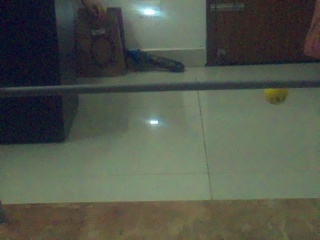ball: (264, 88, 287, 104)
